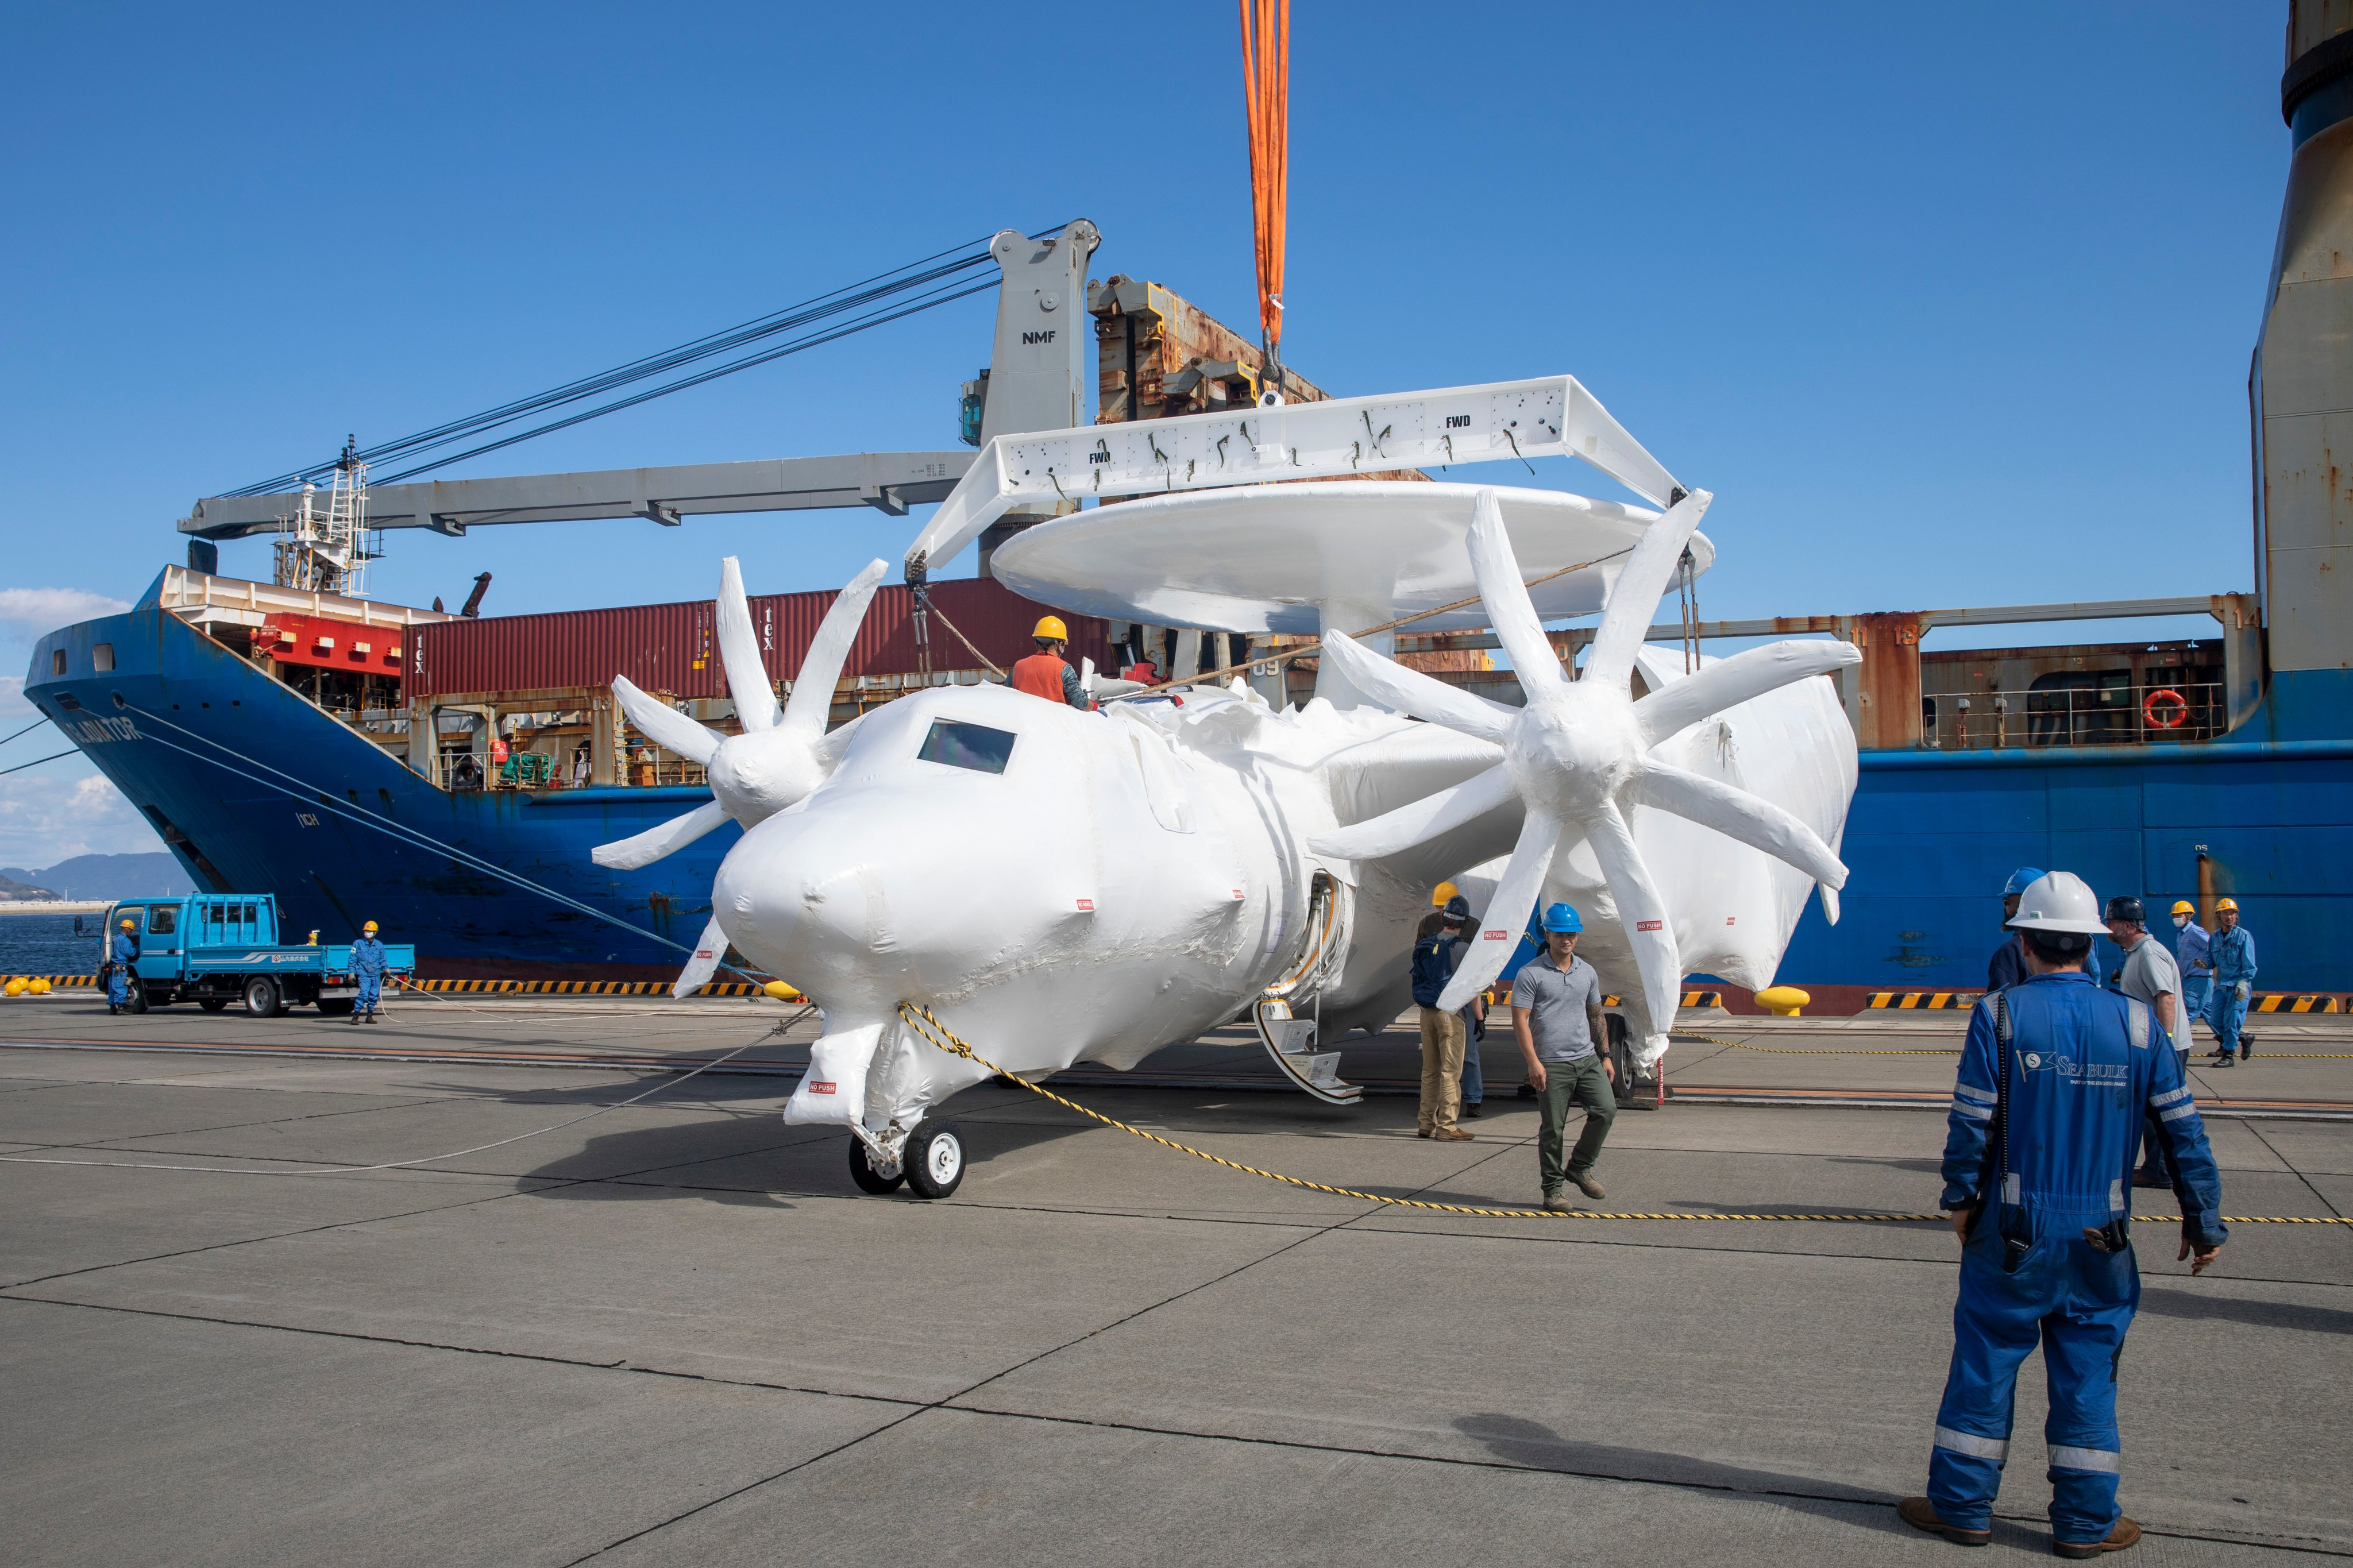E2: (591, 479, 1863, 1199)
